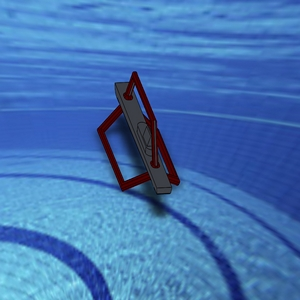submarine: (81, 49, 194, 214)
